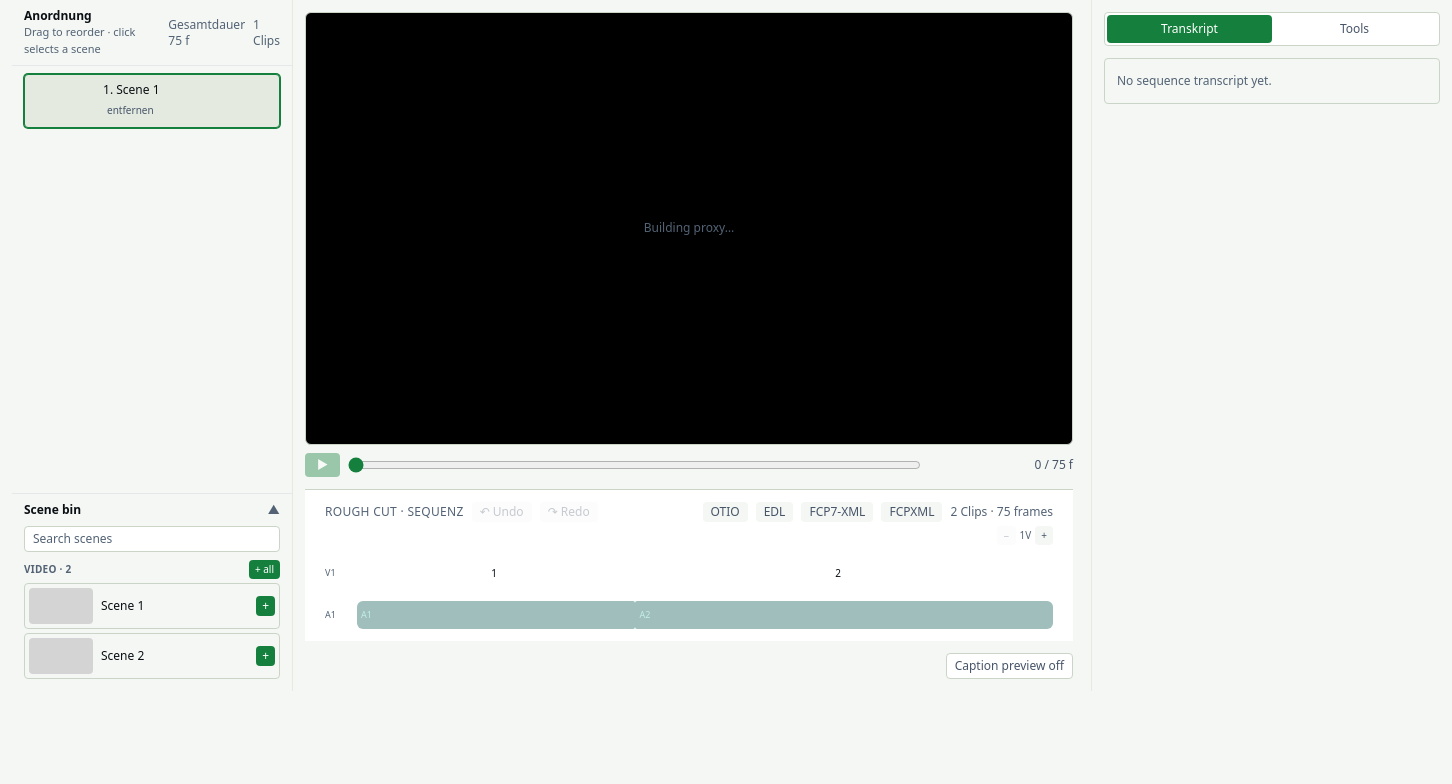
AssembleView › shows sequence duration in work area and sequence tools (not KI-Status) in tools tab
The width and height of the screenshot is (1452, 784).
Expected: the text "Gesamtdauer 75 f" is shown, x1=168 y1=16 x2=245 y2=48
Click the button "Tools". click: (1354, 29)
box: x1=1272 y1=15 x2=1437 y2=43
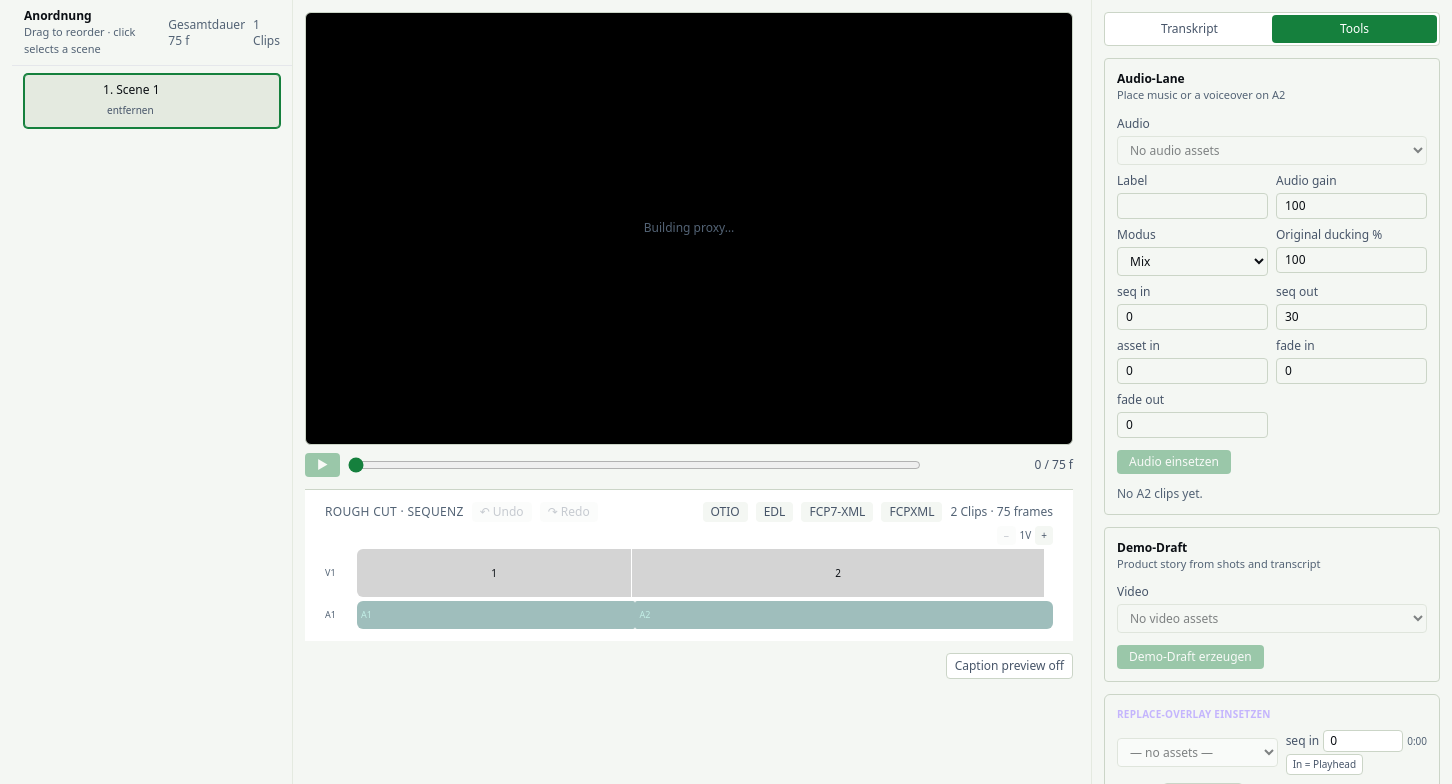
Now the text "Demo-Draft" is shown, box x1=1117 y1=538 x2=1187 y2=556
